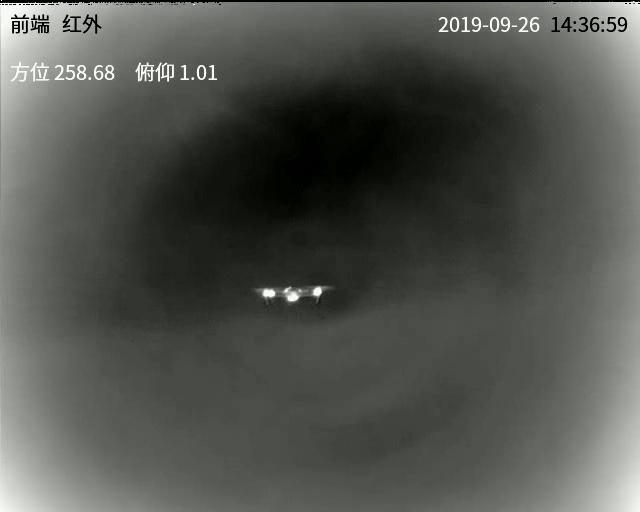DRONE: (260, 283, 324, 306)
